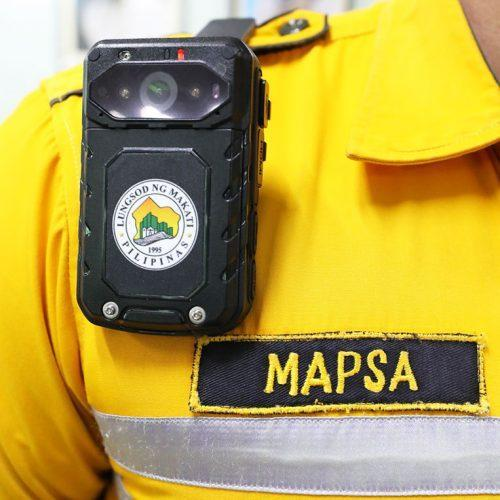Monitor: (75, 34, 270, 336)
